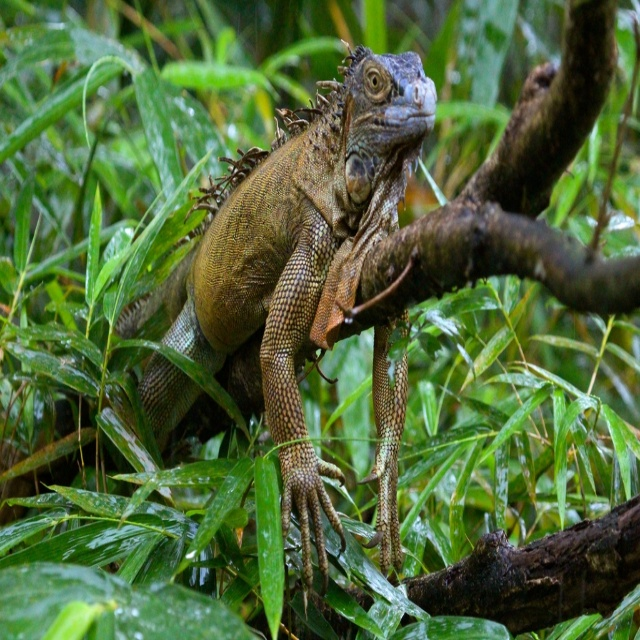Lizard: (102, 35, 435, 590)
